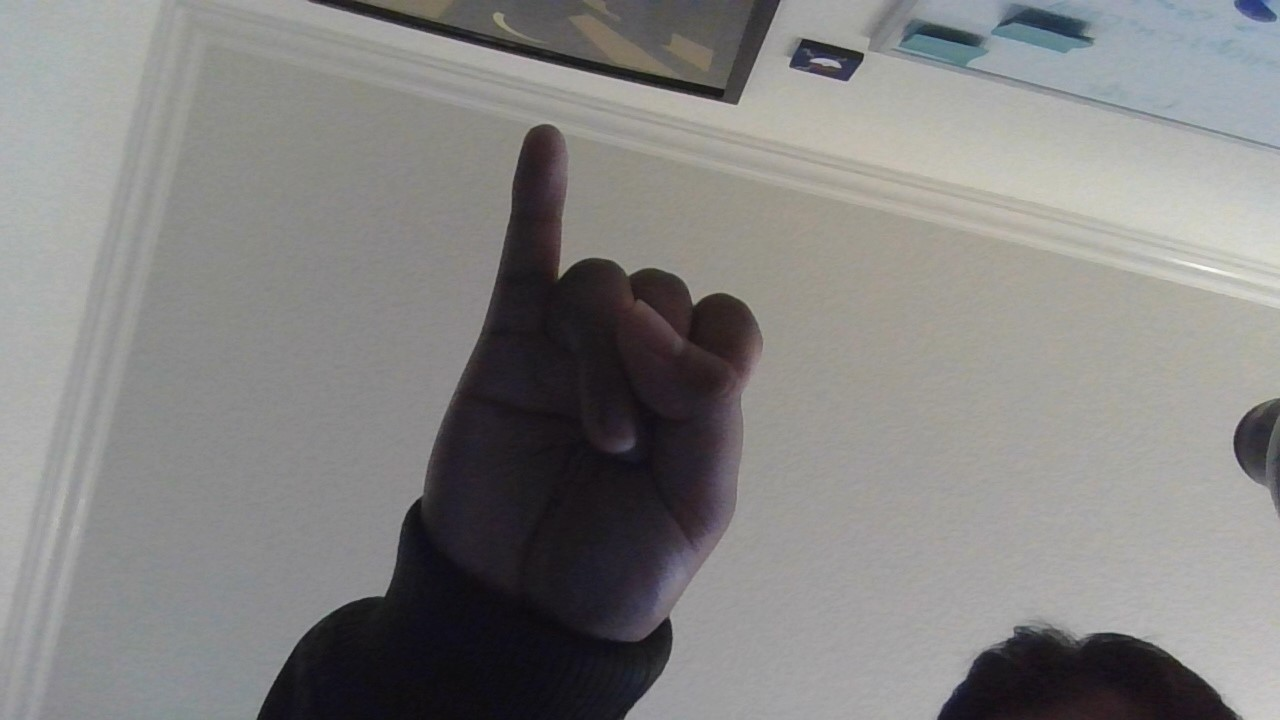i: (400, 107, 761, 661)
